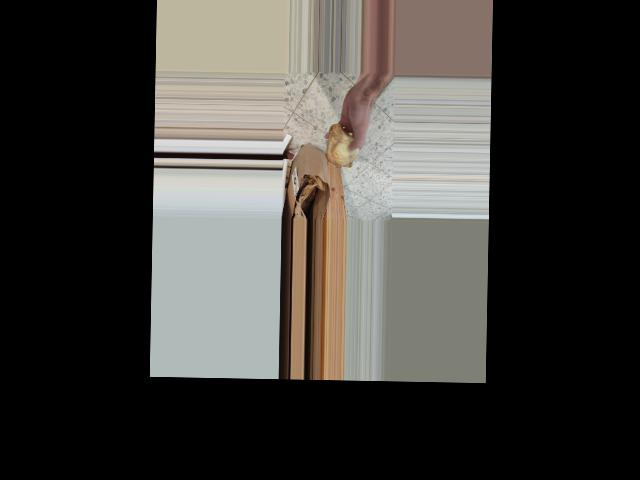onion: (323, 120, 360, 169)
